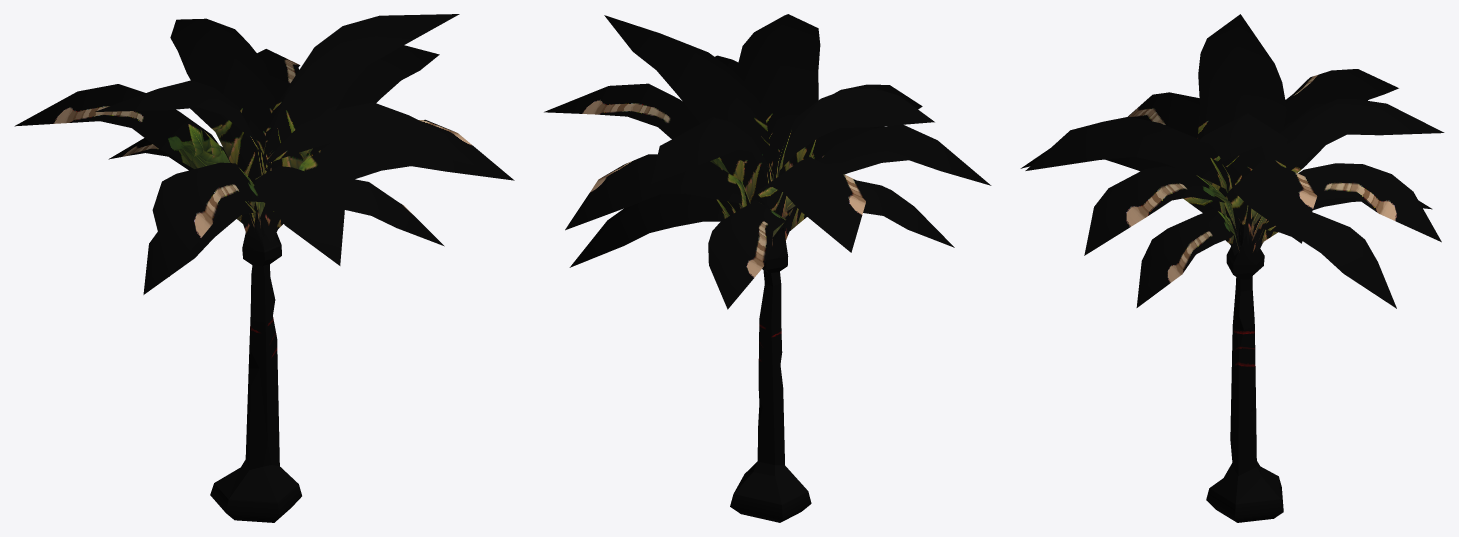
Rendered from trp_banana.glb.
3 renders of one model, left to right at view 1: azimuth 30°, elevation 25°; view 2: azimuth 150°, elevation 25°; view 3: azimuth 270°, elevation 25°, orthographic. The views are drawn at different scales.
Parts seen in each view (by area): view 1: SM_Env_Tree_Banana_01_LOD0; view 2: SM_Env_Tree_Banana_01_LOD0; view 3: SM_Env_Tree_Banana_01_LOD0.
Part boxes in pixels (x1,y1,x2,y2): SM_Env_Tree_Banana_01_LOD0: (14, 14, 514, 522); SM_Env_Tree_Banana_01_LOD0: (544, 14, 991, 522); SM_Env_Tree_Banana_01_LOD0: (1020, 14, 1444, 522).
Size of what is drawn, in the model's own units: 4.94 by 5.87 by 5.08.
Materials: 1 (1 with a texture image).
